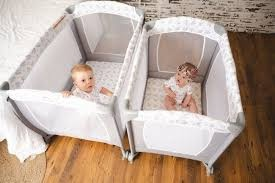baby: (62, 64, 112, 101), (164, 63, 197, 112)
crib: (7, 1, 143, 156), (124, 17, 244, 172)
